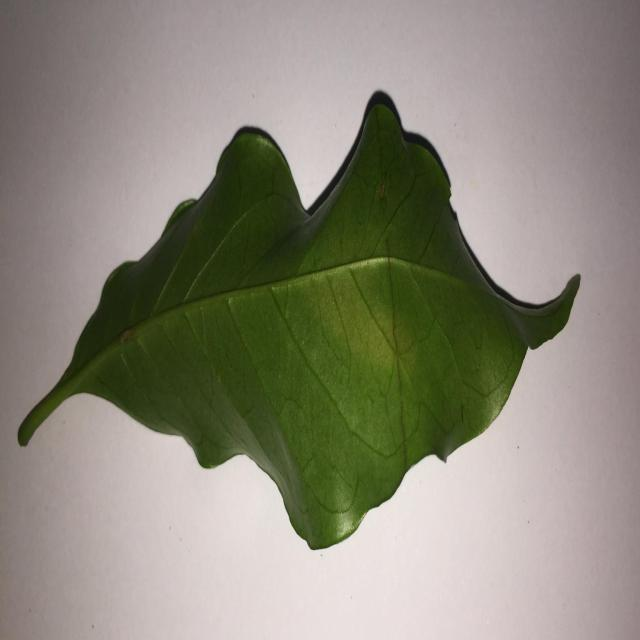Sanas: (16, 91, 582, 554)
